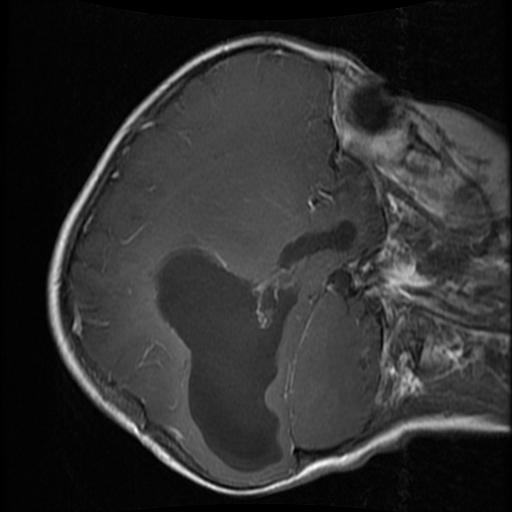glioma: (152, 222, 358, 470)
